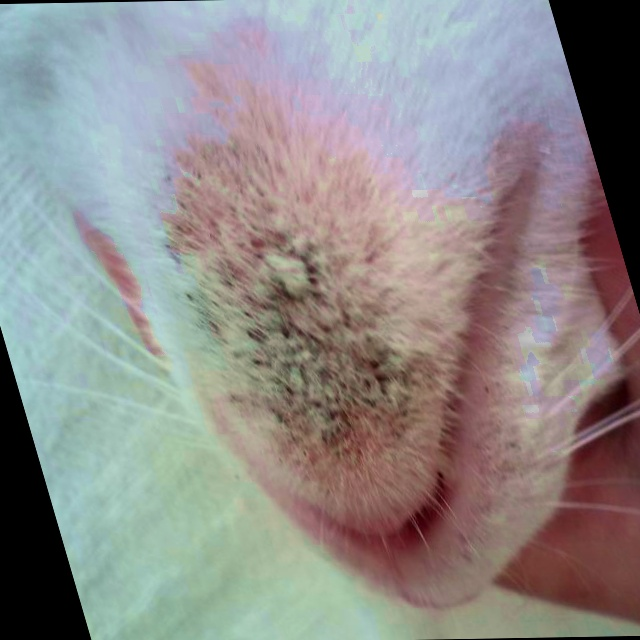acne: (153, 213, 436, 465)
